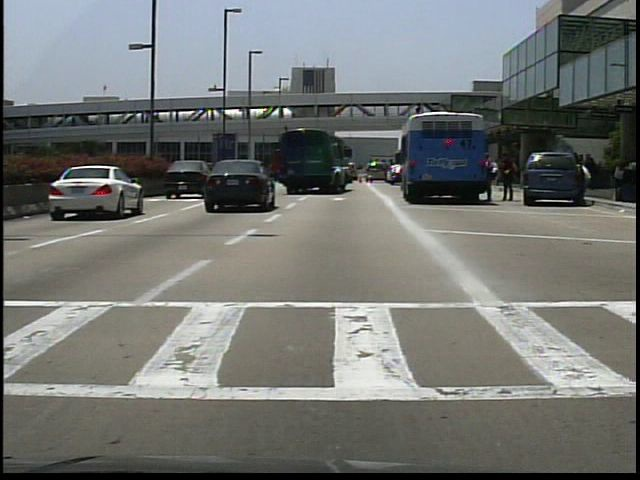person: (498, 155, 515, 202), (577, 160, 595, 201), (484, 152, 499, 201)
